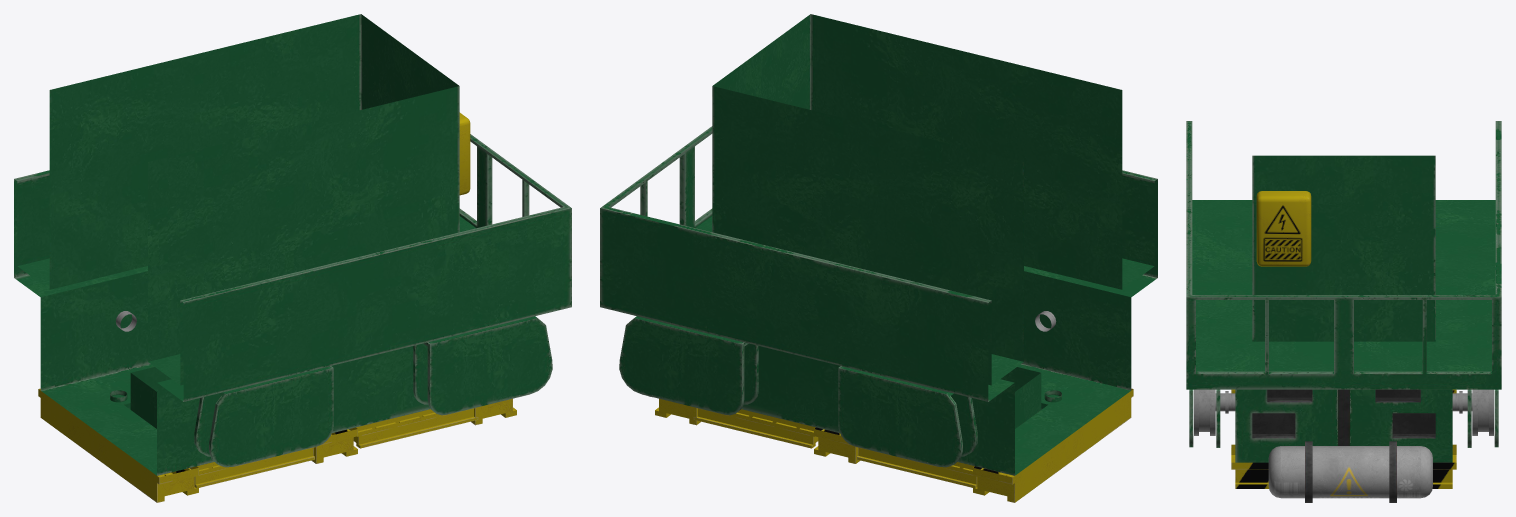
File: Moover.fbx
The picture shows the model from 3 angles, left to right: view 1: azimuth 30°, elevation 25°; view 2: azimuth 150°, elevation 25°; view 3: azimuth 270°, elevation 25°; orthographic projection. The views are drawn at different scales.
Parts seen in each view (by area): view 1: main_moover; view 2: main_moover; view 3: main_moover.
Boxes of the visible parts, left/top/right/bottom form: main_moover: left=14, top=14, right=571, bottom=502; main_moover: left=600, top=14, right=1157, bottom=502; main_moover: left=1186, top=121, right=1501, bottom=502.
Bounding box in the file's own units: 330 × 260 × 237.
